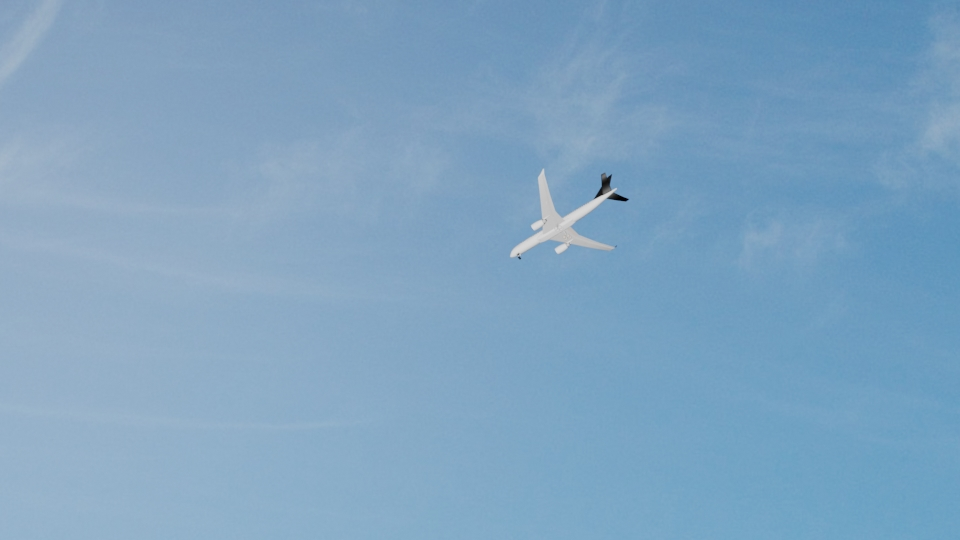plane: (505, 164, 631, 260)
